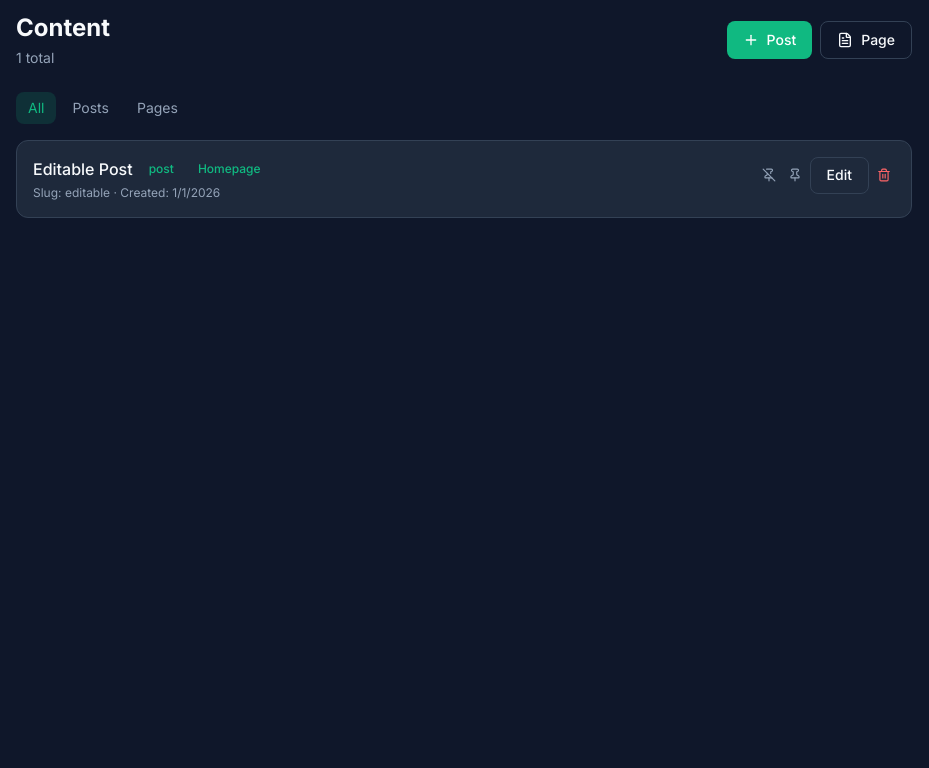
Content settings page › edit content › opens edit form with pre-populated data when edit is clicked
Expected: the text "Editable Post" is shown, [33, 157, 133, 181]
Click the button "Edit".
click(839, 175)  # box [810, 157, 869, 194]
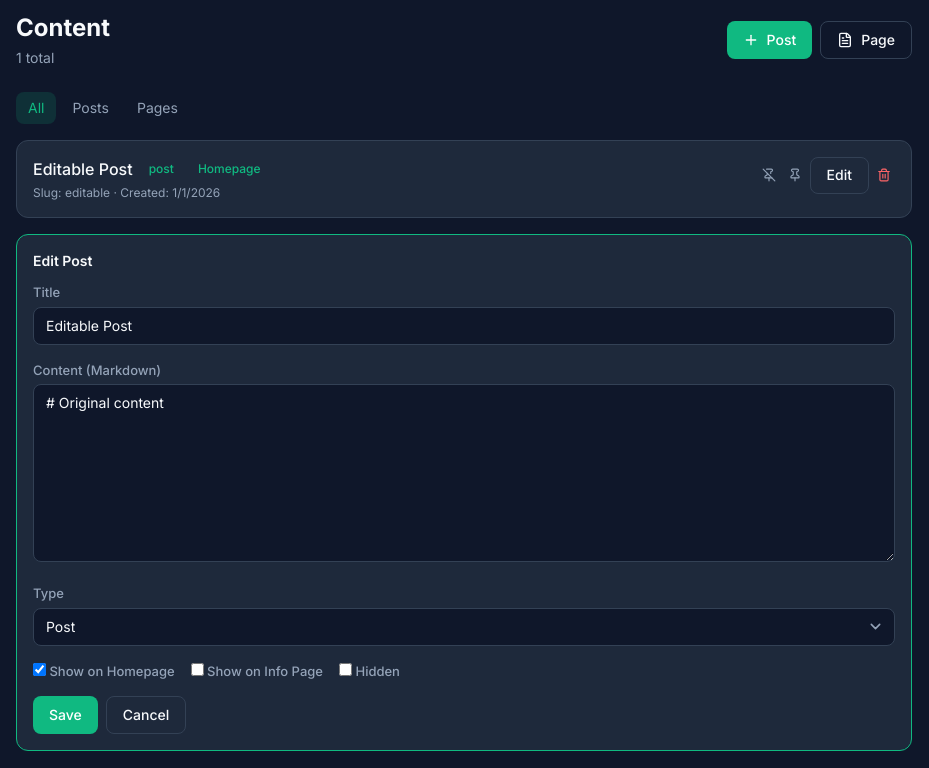
Expected: the heading "Edit Post" is shown, [33, 252, 92, 269]
Expected: the field holds "Editable Post", [33, 306, 895, 344]
Expected: the text box holds "# Original content", [33, 384, 895, 562]
